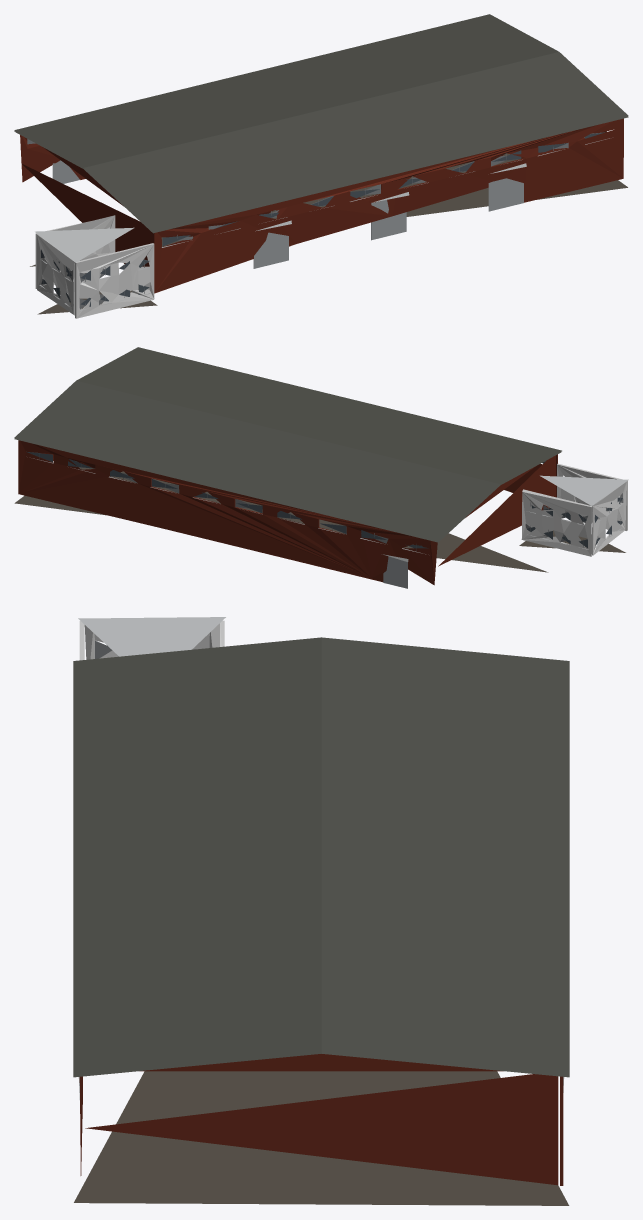
The model's file is industrial-hall-lod1.glb.
3 renders of one model, top to bottom at view 1: azimuth 30°, elevation 25°; view 2: azimuth 150°, elevation 25°; view 3: azimuth 270°, elevation 25°, orthographic. The views are drawn at different scales.
Parts seen in each view (by area): view 1: industrial-hall-plaster0.001; view 2: industrial-hall-plaster0.001; view 3: industrial-hall-plaster0.001.
Part boxes in pixels (<box>): industrial-hall-plaster0.001: <box>14,14,628,318</box>; industrial-hall-plaster0.001: <box>14,347,628,588</box>; industrial-hall-plaster0.001: <box>73,617,569,1205</box>.
Bounding box in the file's own units: 72.83 × 10.92 × 30.8.
